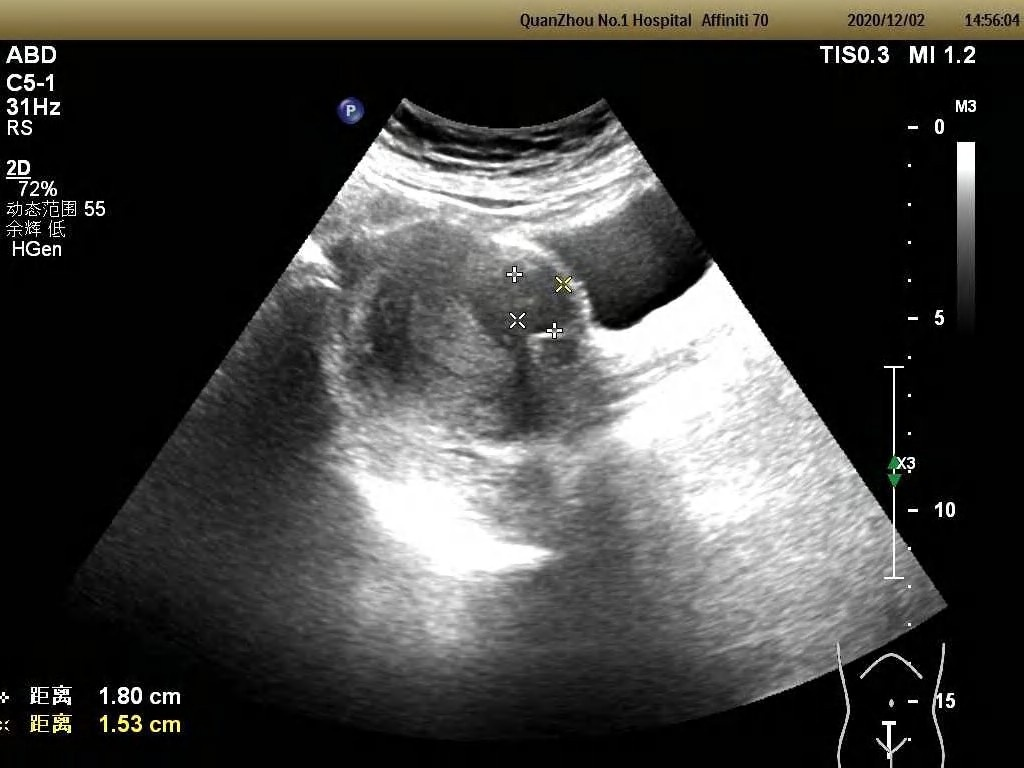肌瘤: (507, 274, 559, 333)
